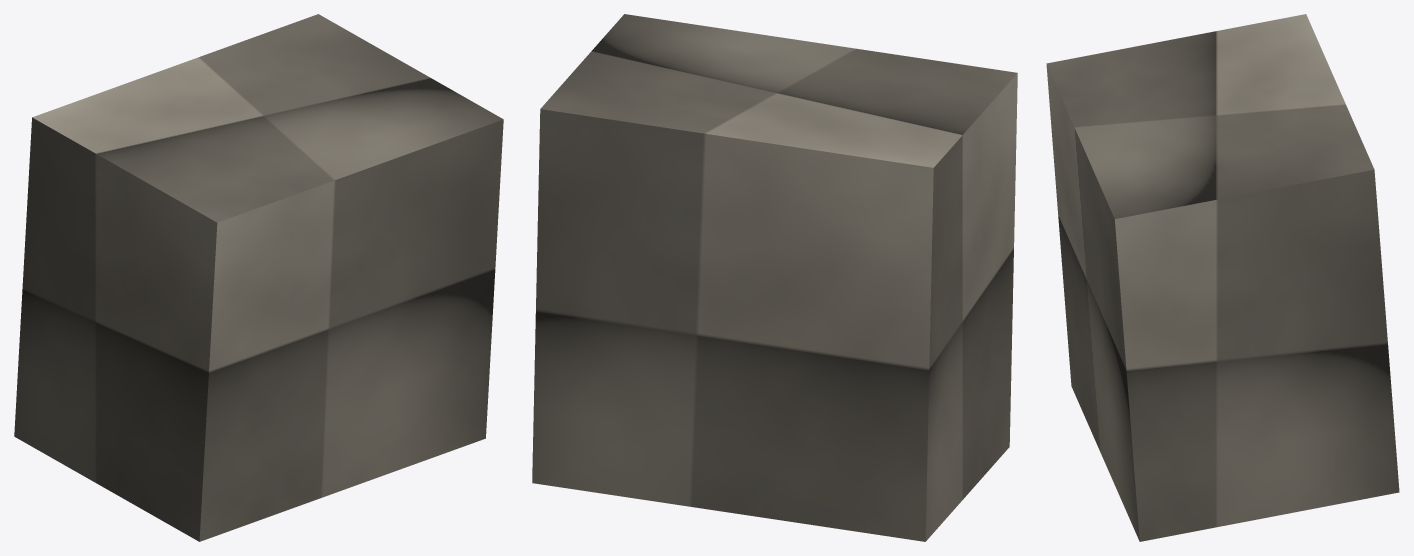
File: Prop_Brick4_LOD1.gltf
3 views of the same model, side by side, from view 1: azimuth 30°, elevation 25°; view 2: azimuth 150°, elevation 25°; view 3: azimuth 270°, elevation 25° (orthographic). The views are drawn at different scales.
Visible parts, largest first — view 1: Prop_Brick4_LOD1; view 2: Prop_Brick4_LOD1; view 3: Prop_Brick4_LOD1.
Part boxes in pixels (box(x1,y1,x2,y2)): Prop_Brick4_LOD1: box(14, 14, 503, 541); Prop_Brick4_LOD1: box(532, 14, 1017, 541); Prop_Brick4_LOD1: box(1046, 14, 1399, 541).
Size of the model in its own units: 0.26 by 0.2286 by 0.21.
1 material, 1 textured.
